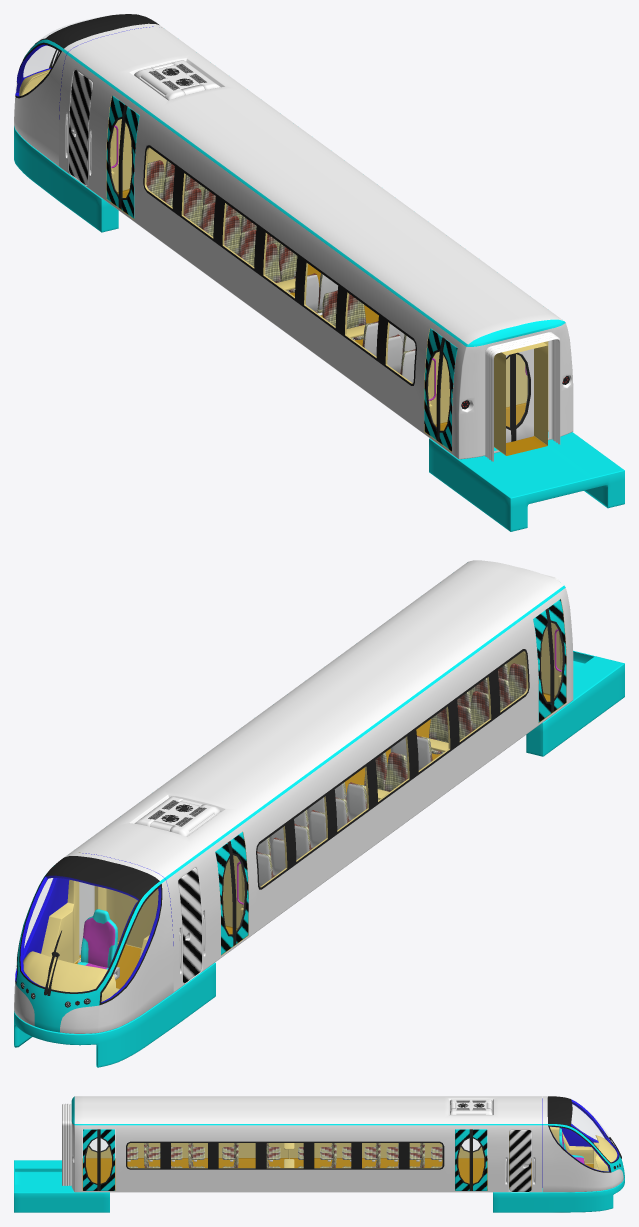
The model's file is monorail-cabin.glb.
The picture shows the model from 3 angles, top to bottom: view 1: azimuth 30°, elevation 25°; view 2: azimuth 150°, elevation 25°; view 3: azimuth 270°, elevation 25°; orthographic projection. The views are drawn at different scales.
Visible parts, largest first — view 1: SwissPrototype_Monorail; view 2: SwissPrototype_Monorail; view 3: SwissPrototype_Monorail.
Boxes of the visible parts, x1=… form: SwissPrototype_Monorail: x1=14, y1=14, x2=624, y2=531; SwissPrototype_Monorail: x1=14, y1=560, x2=624, y2=1067; SwissPrototype_Monorail: x1=14, y1=1096, x2=624, y2=1212.
Bounding box in the file's own units: 2.54 × 3.29 × 19.99.
Materials: 4 (3 with a texture image).
